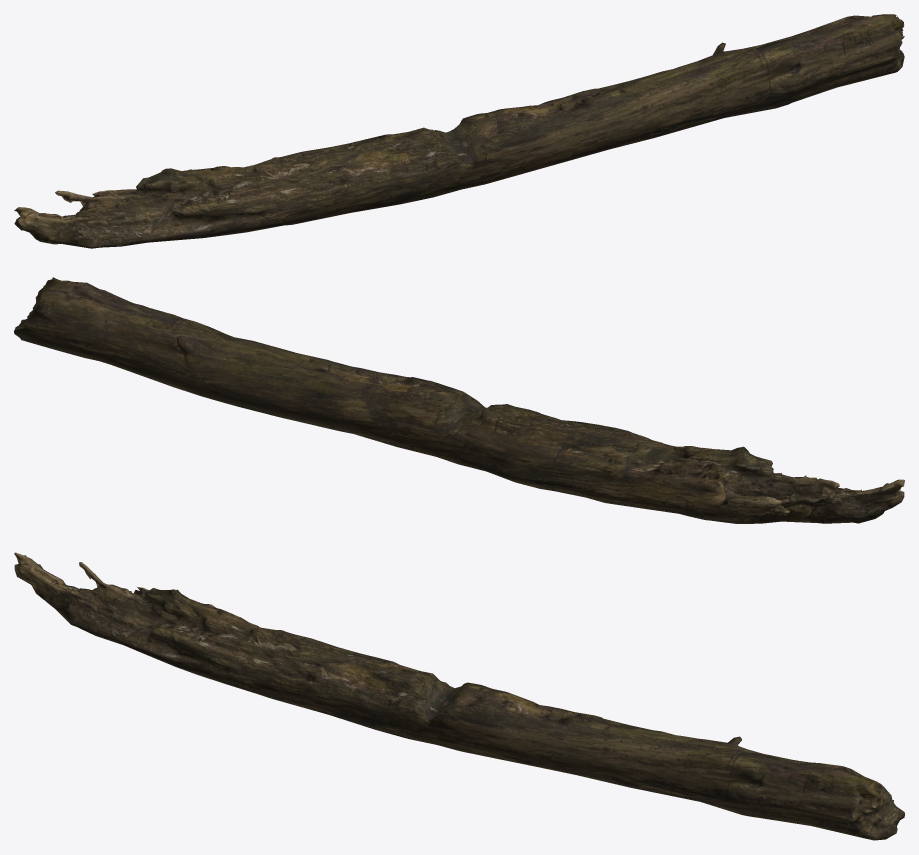
File: glb_deadtree.7554d3ed.glb
3 views of the same model, one above another, from view 1: azimuth 30°, elevation 25°; view 2: azimuth 150°, elevation 25°; view 3: azimuth 330°, elevation 25° (orthographic).
Parts seen in each view (by area): view 1: dead_tree_trunk; view 2: dead_tree_trunk; view 3: dead_tree_trunk.
Part boxes in pixels (bbox=[...]): dead_tree_trunk: bbox=[14, 14, 904, 248]; dead_tree_trunk: bbox=[14, 277, 904, 523]; dead_tree_trunk: bbox=[14, 552, 904, 840].
Bounding box in the file's own units: 3.05 × 0.2904 × 0.2773.
Materials: 1 (1 with a texture image).
